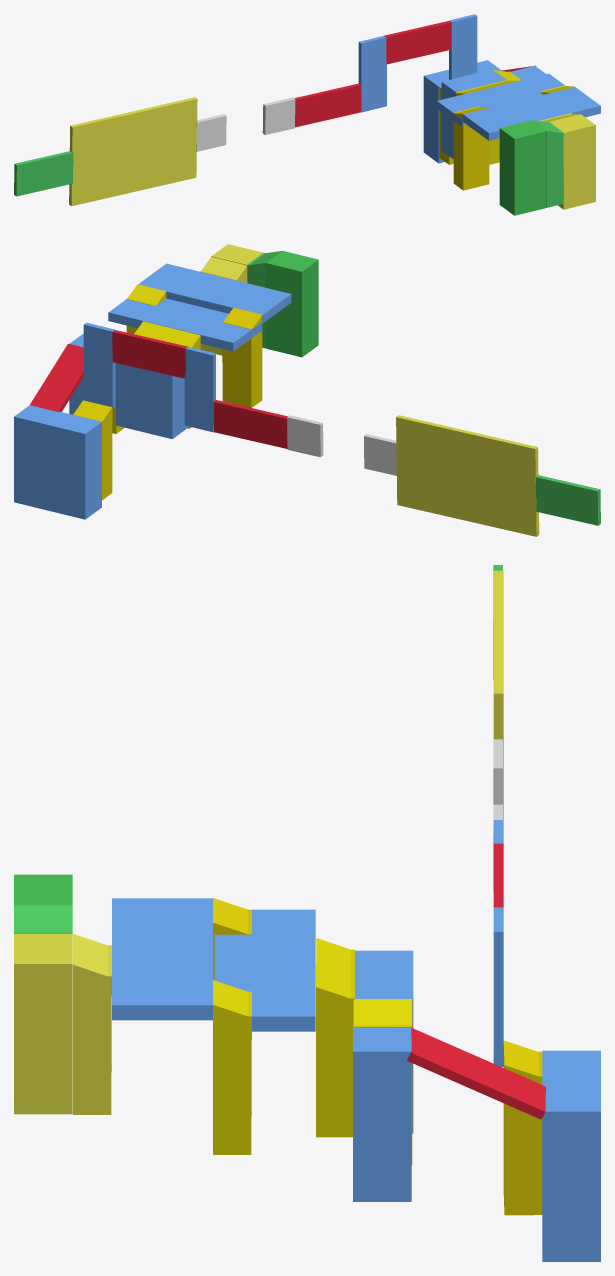
File: marble madness new.fbx
The picture shows the model from 3 angles, top to bottom: view 1: azimuth 30°, elevation 25°; view 2: azimuth 150°, elevation 25°; view 3: azimuth 270°, elevation 25°; orthographic projection. The views are drawn at different scales.
Parts seen in each view (by area): view 1: Cube.020, Cube.003, Cube.001, Cube.002, Cube.007, Cube.008, Cube.022, Cube.016, Cube.017, Cube.015, Cube.012, Cube.014 (+7 smaller); view 2: Cube.020, Cube.012, Cube.003, Cube.010, Cube.001, Cube.008, Cube.007, Cube.014, Cube.017, Cube.015, Cube.016, Cube.022 (+10 smaller); view 3: Cube.001, Cube.012, Cube.002, Cube.011, Cube.008, Cube.009, Cube.006, Cube.004, Cube.013, Cube.021, Cube.010, Cube.020 (+5 smaller).
Boxes of the visible parts, <box> form: Cube.020: <box>69,97,197,206</box>; Cube.003: <box>499,120,546,215</box>; Cube.001: <box>463,87,600,140</box>; Cube.002: <box>549,114,595,209</box>; Cube.007: <box>453,106,489,190</box>; Cube.008: <box>437,73,564,127</box>; Cube.022: <box>14,151,73,196</box>; Cube.016: <box>358,36,386,112</box>; Cube.017: <box>294,83,361,127</box>; Cube.015: <box>384,21,451,64</box>; Cube.012: <box>423,60,501,163</box>; Cube.014: <box>449,14,477,79</box>; Cube.020: <box>396,415,539,536</box>; Cube.012: <box>14,405,101,519</box>; Cube.003: <box>266,251,318,357</box>; Cube.010: <box>116,363,188,439</box>; Cube.001: <box>138,263,291,323</box>; Cube.008: <box>108,298,262,351</box>; Cube.007: <box>222,307,262,407</box>; Cube.014: <box>83,322,115,408</box>; Cube.017: <box>213,400,287,448</box>; Cube.015: <box>112,330,187,378</box>; Cube.016: <box>184,347,215,432</box>; Cube.022: <box>536,475,600,525</box>; Cube.001: <box>112,898,212,1020</box>; Cube.012: <box>542,1050,600,1261</box>; Cube.002: <box>14,933,72,1114</box>; Cube.011: <box>353,1027,411,1201</box>; Cube.008: <box>214,909,315,1031</box>; Cube.009: <box>316,938,354,1137</box>; Cube.006: <box>73,934,111,1114</box>; Cube.004: <box>213,980,251,1154</box>; Cube.013: <box>503,1040,542,1215</box>; Cube.021: <box>407,1028,545,1119</box>; Cube.010: <box>355,950,413,1133</box>; Cube.020: <box>493,570,503,819</box>.
Bounding box in the file's own units: 13521 × 3909 × 7044.
